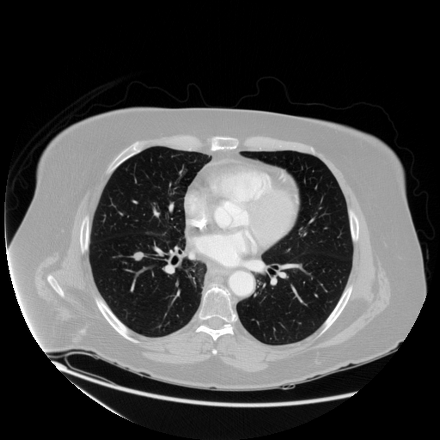nodule: (133, 251, 143, 261)
